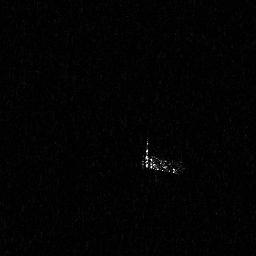ship: (141, 138, 186, 176)
